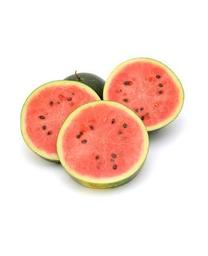watermelon: (19, 58, 186, 188)
